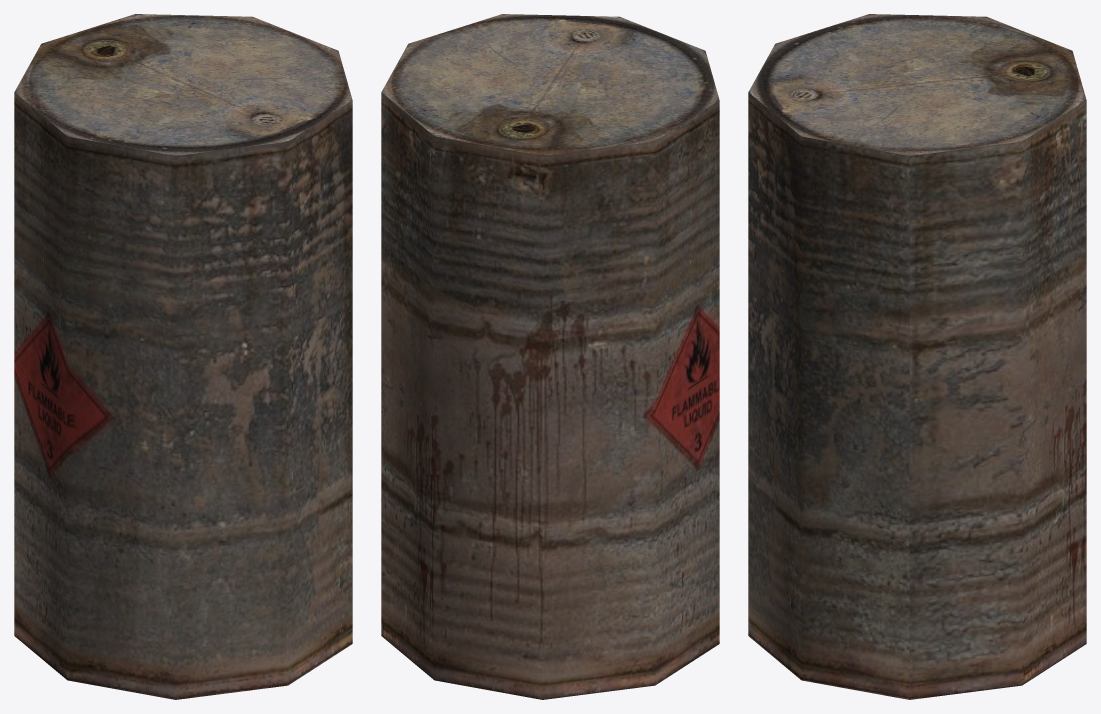
File: Barrel_v3_quadro.002.glb
3 views of the same model, side by side, from view 1: azimuth 30°, elevation 25°; view 2: azimuth 150°, elevation 25°; view 3: azimuth 270°, elevation 25° (orthographic).
Parts seen in each view (by area): view 1: Barrel_v3_quadro.002; view 2: Barrel_v3_quadro.002; view 3: Barrel_v3_quadro.002.
Boxes of the visible parts, box(x1,y1,x2,y2) form: Barrel_v3_quadro.002: box(14, 14, 352, 699); Barrel_v3_quadro.002: box(381, 14, 719, 699); Barrel_v3_quadro.002: box(748, 14, 1086, 699).
Bounding box in the file's own units: 0.5774 × 1.03 × 0.5806.
Materials: 1 (1 with a texture image).
